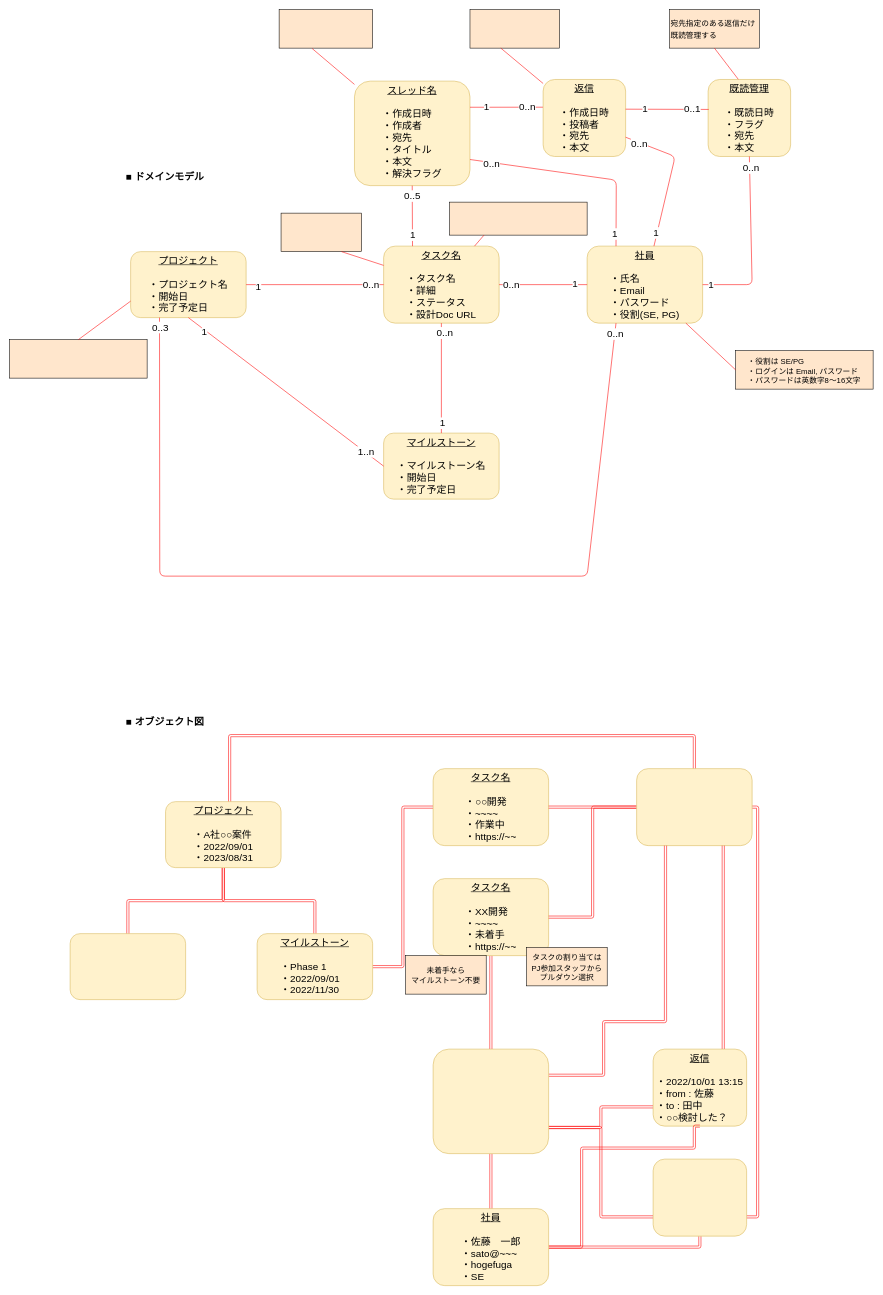
The diagram is 883 pixels wide and 1295 high, and some of its shapes have lost their labels. The centre of each missing label's shape, as x and y in pixels:
"スレッド名 ・2022/10/01 09:30 ・from : 田中 ・to : 佐藤 ・【ご確認】 ・～～でよき？ ・False" belongs at pixel 491 1101.
"マイルストーン ・Phase 2 ・2022/11/01 ・2023/01/31" belongs at pixel 128 966.
"マイルストーンに紐づいていない タスクは「作業中」にできない" belongs at pixel 518 218.
"・「ステータス」は 状態遷移図に記載" belongs at pixel 321 232.
"・宛先は未入力でもOK" belongs at pixel 514 28.
"・宛先は未入力でもOK ・スレッドが多過ぎると タスクが悪いと判断" belongs at pixel 326 28.
"新人は1個だけ → 新人の定義があいまいであるため、 初期リリースでは運用でカバーする" belongs at pixel 78 358.
"社員 ・田中 浩 ・tanaka@~~~ ・hogefuga ・PG" belongs at pixel 694 807.
"返信 ・2022/10/02 9:20 ・from : 田中 ・to : 佐藤 ・○○で検討中" belongs at pixel 700 1197.
